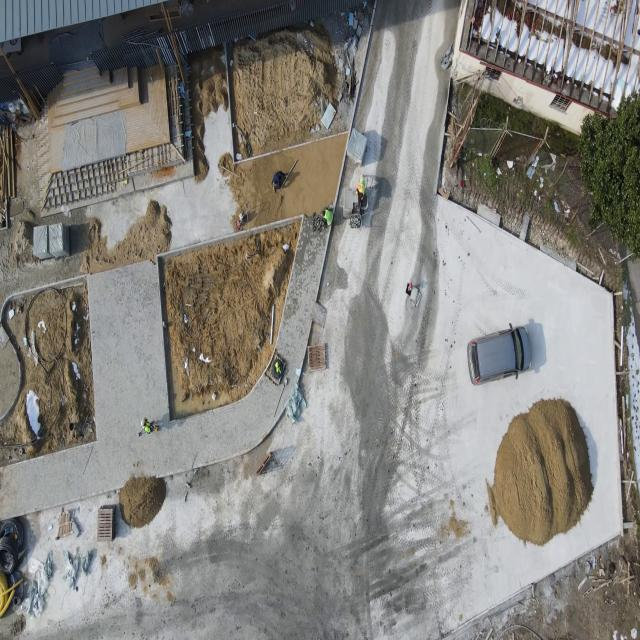p3rson: (270, 170, 288, 193), (355, 173, 365, 206), (140, 416, 155, 434), (322, 204, 334, 226)
